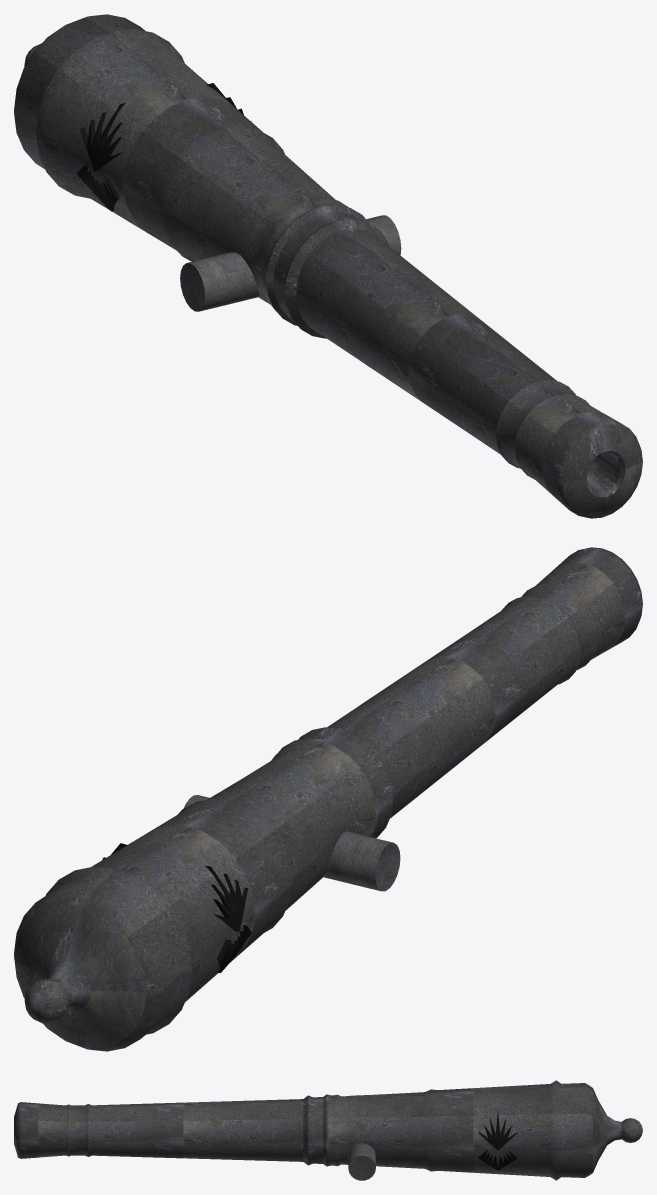
The model's file is CannonBarrel.fbx.
The picture shows the model from 3 angles, top to bottom: view 1: azimuth 30°, elevation 25°; view 2: azimuth 150°, elevation 25°; view 3: azimuth 270°, elevation 25°; orthographic projection. The views are drawn at different scales.
Visible parts, largest first — view 1: Cannon, UoSLogo001; view 2: Cannon, UoSLogo001; view 3: Cannon, UoSLogo002.
Boxes of the visible parts, x1,y1,x2,y2 form: Cannon: (14,14,642,518); UoSLogo001: (76,103,125,211); Cannon: (14,547,642,1051); UoSLogo001: (205,865,251,973); Cannon: (14,1080,642,1180); UoSLogo002: (478,1111,517,1170).
Size of the model in its own units: 21.04 by 17.03 by 106.
Materials: 2 (2 with a texture image).
